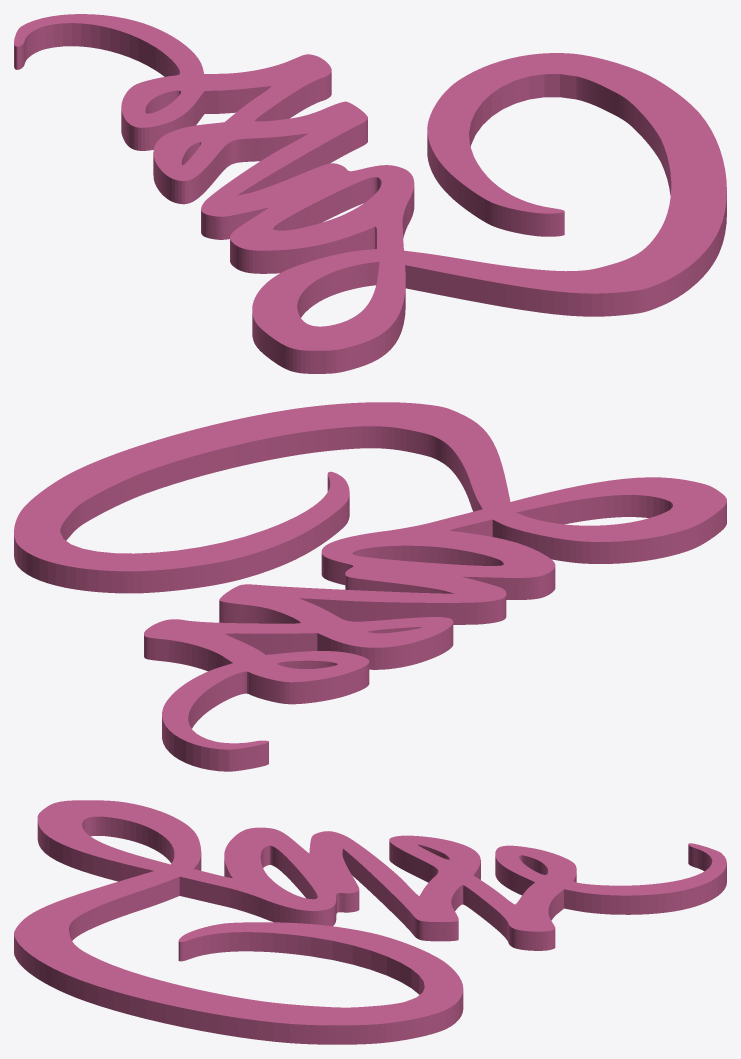
The model's file is scss.glb.
3 renders of one model, top to bottom at view 1: azimuth 30°, elevation 25°; view 2: azimuth 150°, elevation 25°; view 3: azimuth 270°, elevation 25°, orthographic. The views are drawn at different scales.
Parts seen in each view (by area): view 1: Curve; view 2: Curve; view 3: Curve.
Boxes of the visible parts, x1,y1,x2,y2 form: Curve: [14, 14, 726, 373]; Curve: [14, 402, 726, 771]; Curve: [14, 800, 726, 1044].
Size of the model in its own units: 1.98 by 0.0789 by 2.64.
